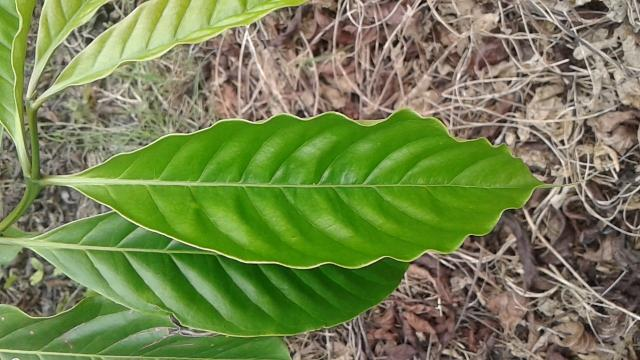healthy: (76, 108, 558, 268)
